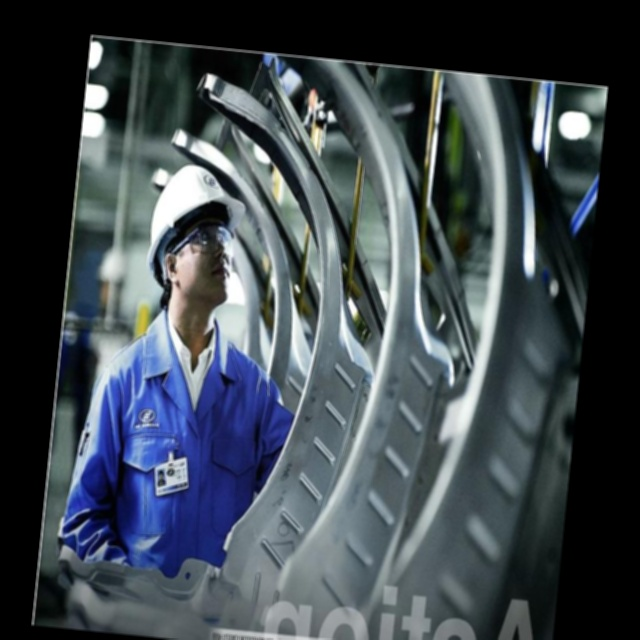Con_Casco: (143, 158, 249, 311)
